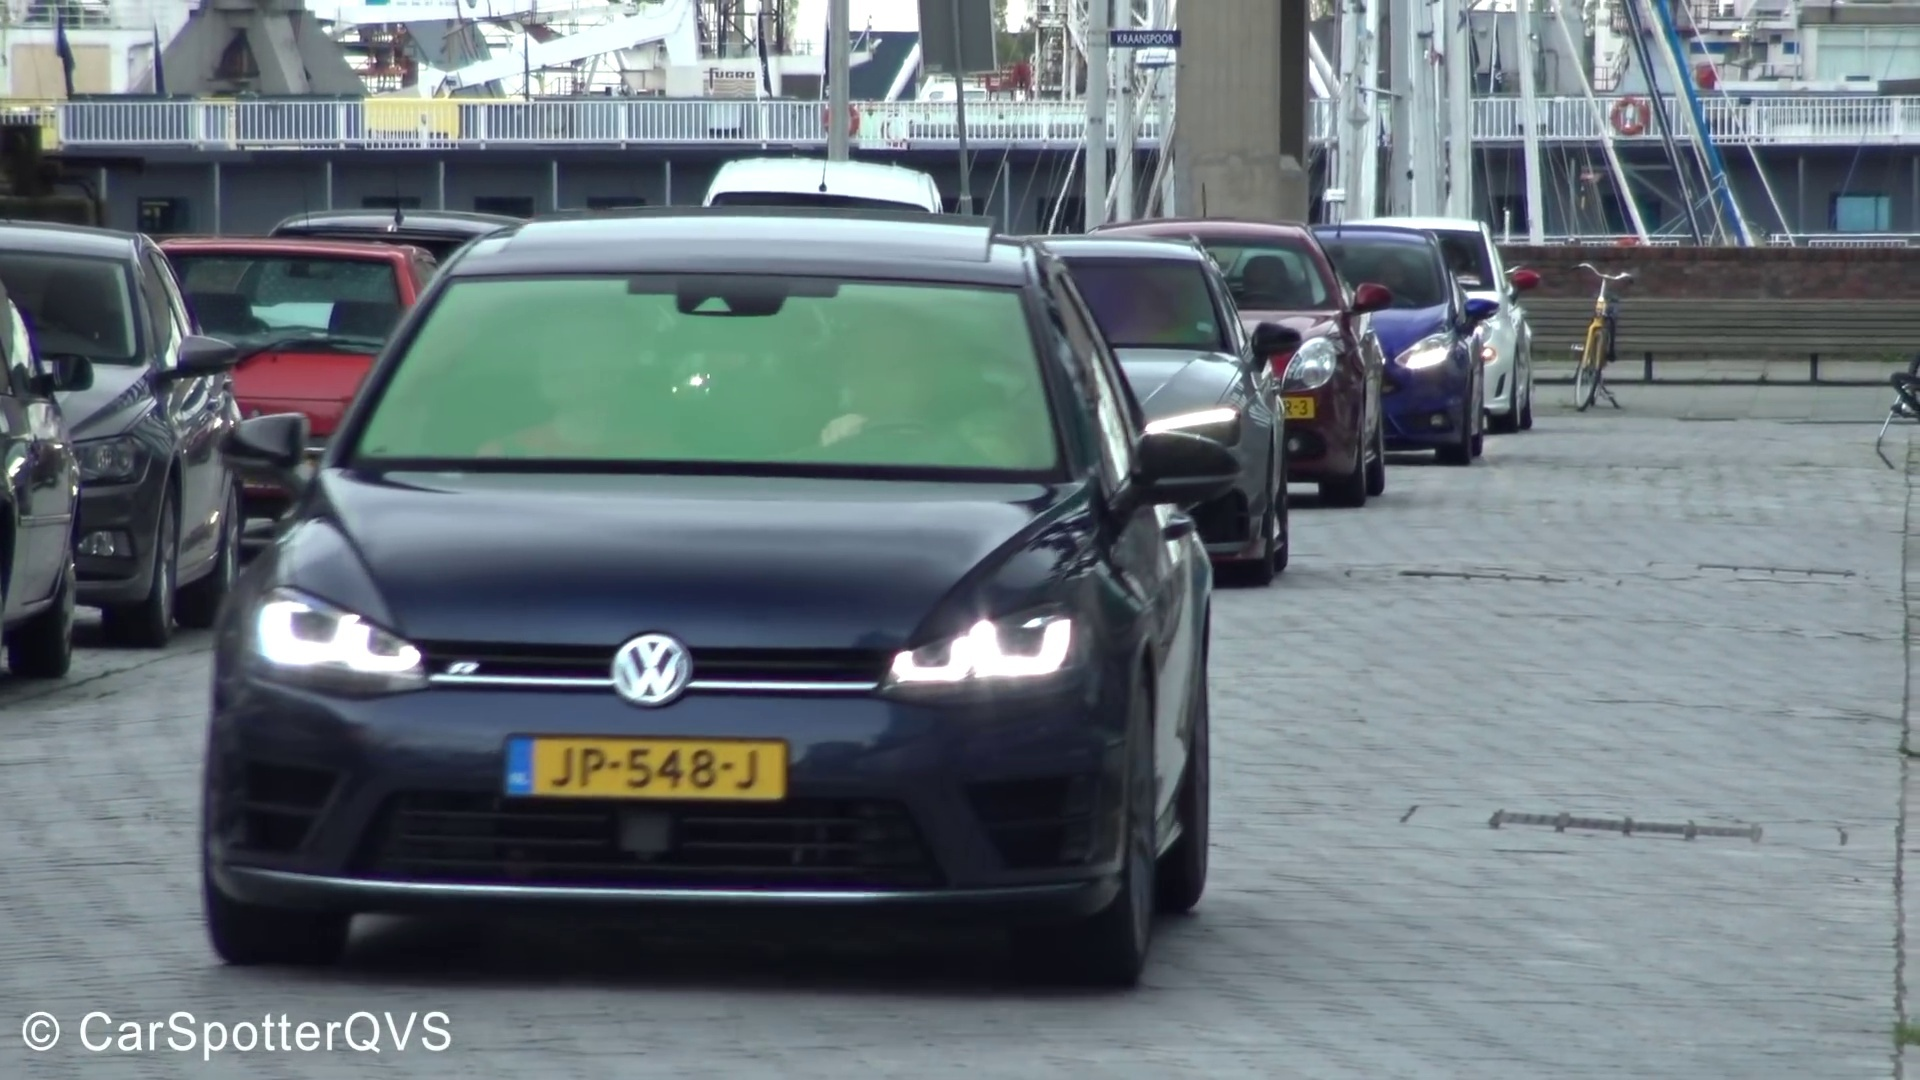number_plate: (498, 729, 796, 814)
